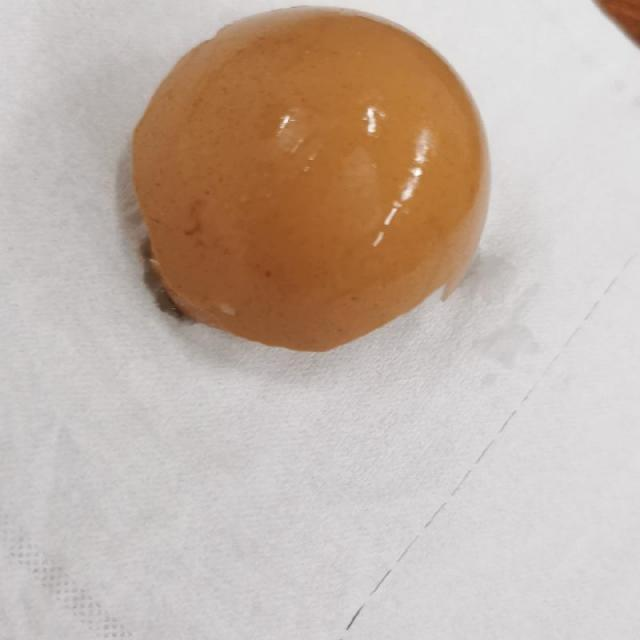egg shell: (128, 8, 490, 354)
